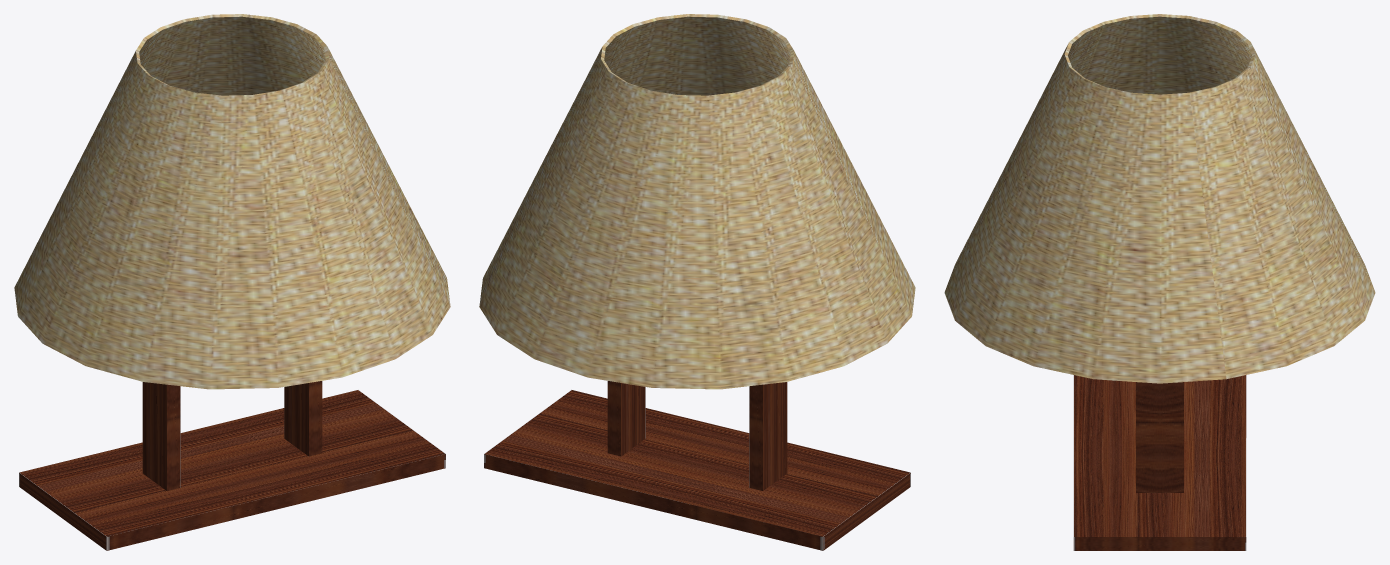
The model's file is lamp.fbx.
3 renders of one model, left to right at view 1: azimuth 30°, elevation 25°; view 2: azimuth 150°, elevation 25°; view 3: azimuth 270°, elevation 25°, orthographic.
Parts seen in each view (by area): view 1: lamp; view 2: lamp; view 3: lamp.
Boxes of the visible parts, <box> form: lamp: <box>14,14,450,550</box>; lamp: <box>479,14,915,550</box>; lamp: <box>944,14,1375,550</box>.
Size of the model in its own units: 4.52 by 4.8 by 4.52.
Materials: 1 (1 with a texture image).
